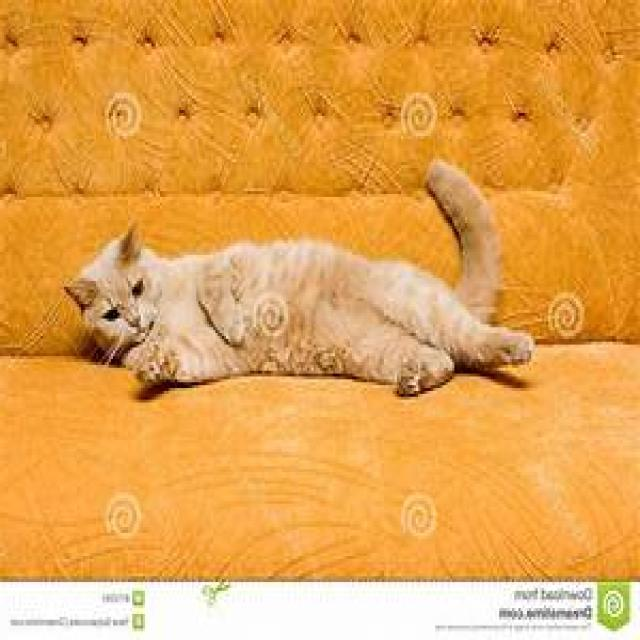cat: (62, 168, 536, 396)
